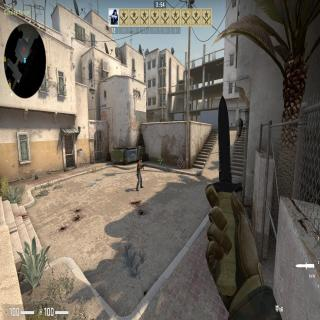T-Body: (136, 157, 144, 190)
T-Head: (140, 157, 142, 162)
